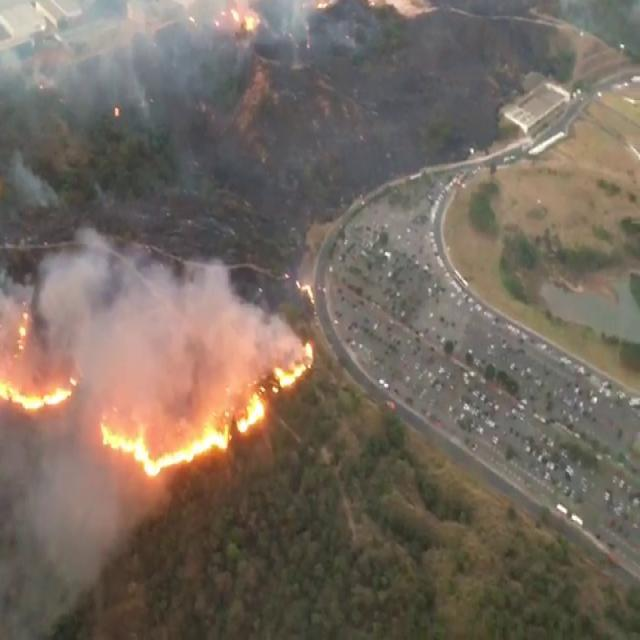Fire: (98, 426, 230, 474), (4, 378, 78, 414), (273, 337, 311, 388), (238, 397, 262, 439), (15, 308, 30, 353), (295, 276, 314, 303), (231, 10, 254, 30), (110, 105, 122, 119)
Smoke: (0, 236, 308, 411), (0, 412, 231, 639), (6, 5, 352, 124)
